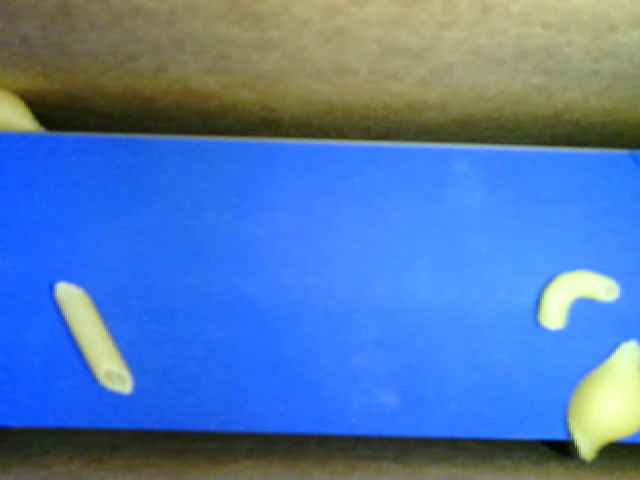elbow: (537, 270, 620, 333)
penne: (49, 280, 132, 395)
shell: (565, 338, 639, 462), (1, 91, 50, 132)
